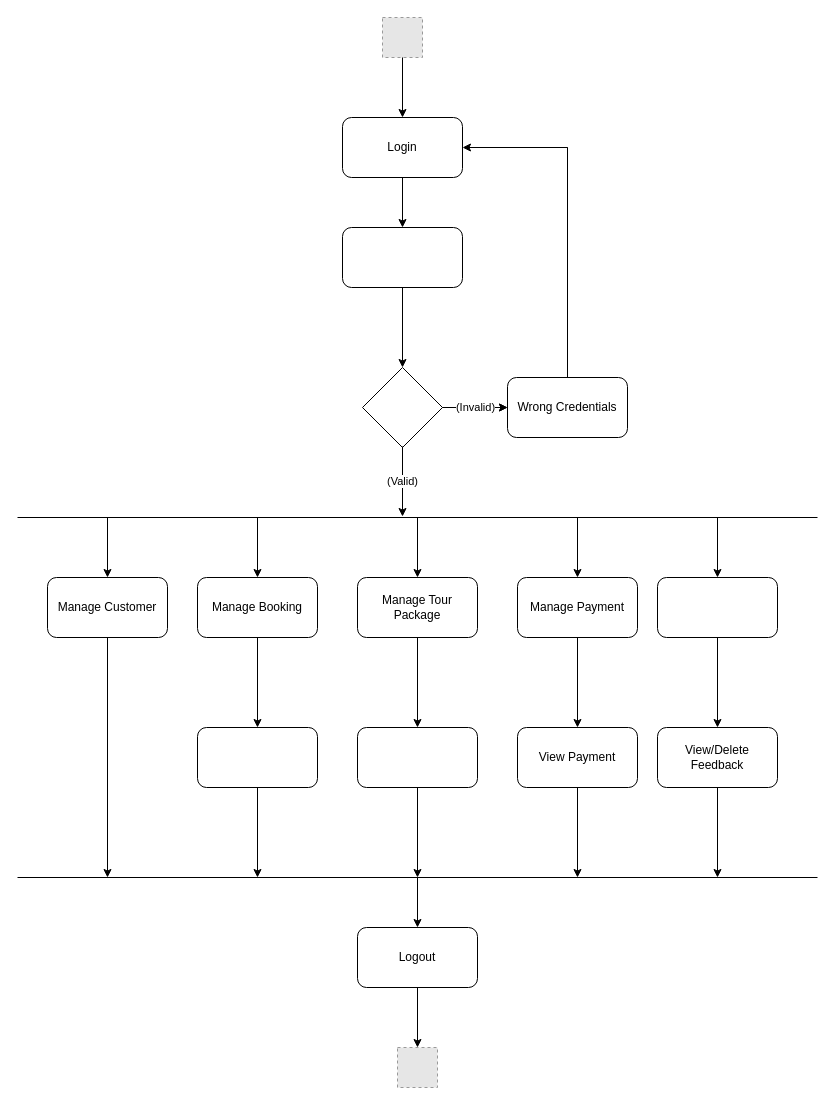
Image size: 836x1105. Some labels were removed from this diagram. Grey dashed boxes stand in for pictures. The centre of each missing label's shape, as x and y in pixels:
Add tour Package: the point at 417,757
Authentication: the point at 402,257
Manage Feedback: the point at 717,607
View Booking: the point at 257,757
